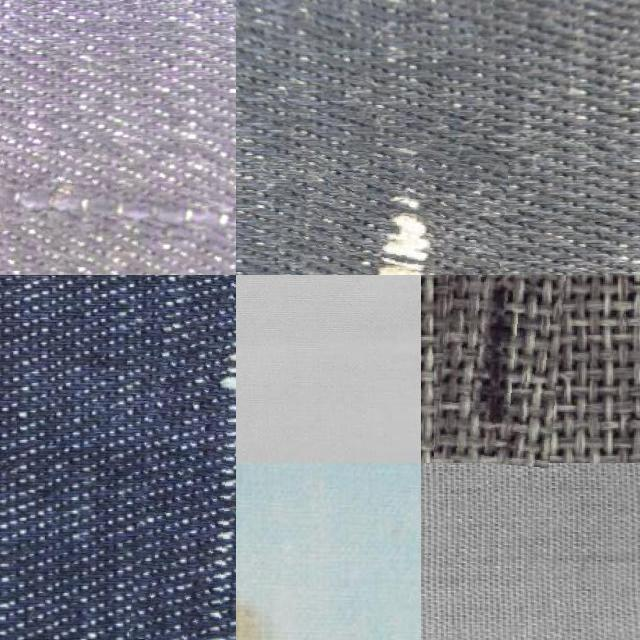Thread_other: (236, 275, 420, 463), (437, 275, 561, 465)
stains: (140, 275, 236, 640), (0, 127, 236, 275), (273, 144, 503, 275)
